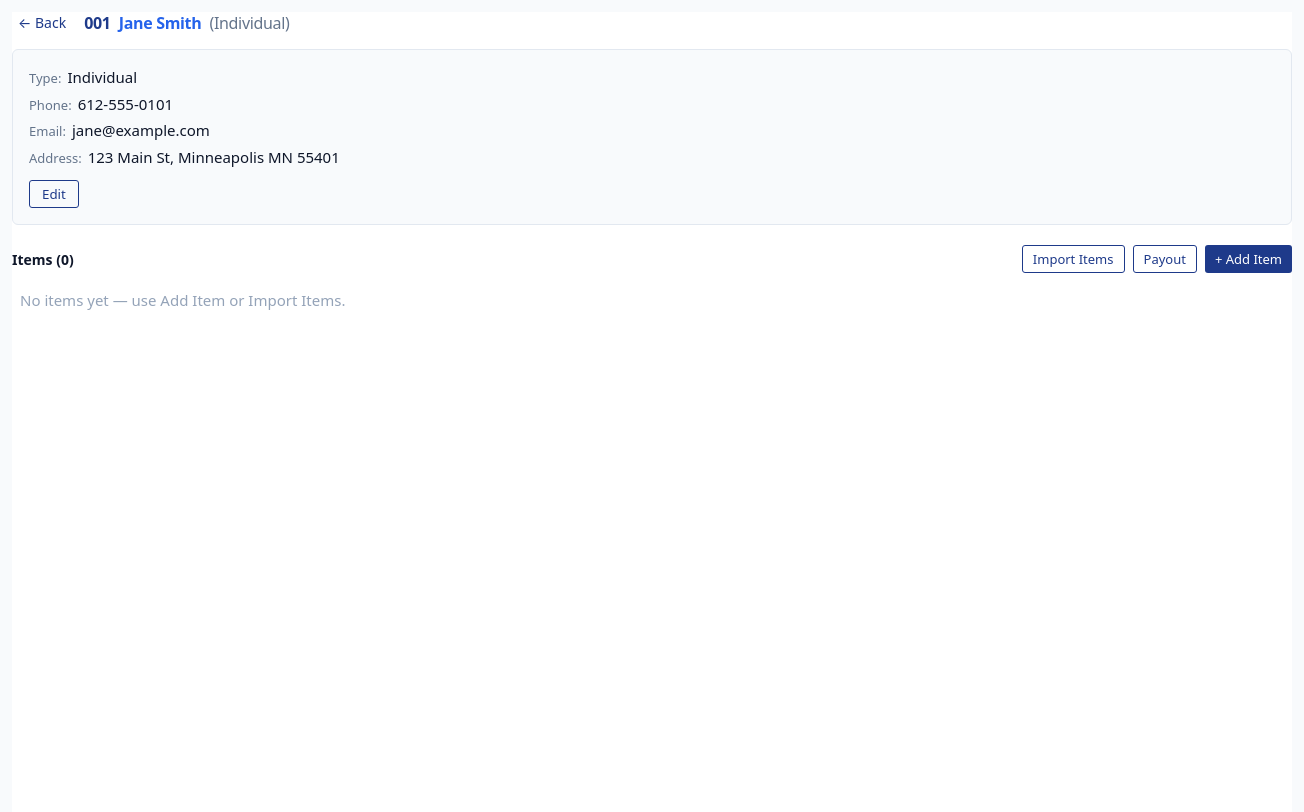
Test: SellerDetailPage › shows payout panel when Payout button is clicked
The image size is (1304, 812).
Click the button "Payout". click: (1165, 259)
box: [1132,245,1197,273]
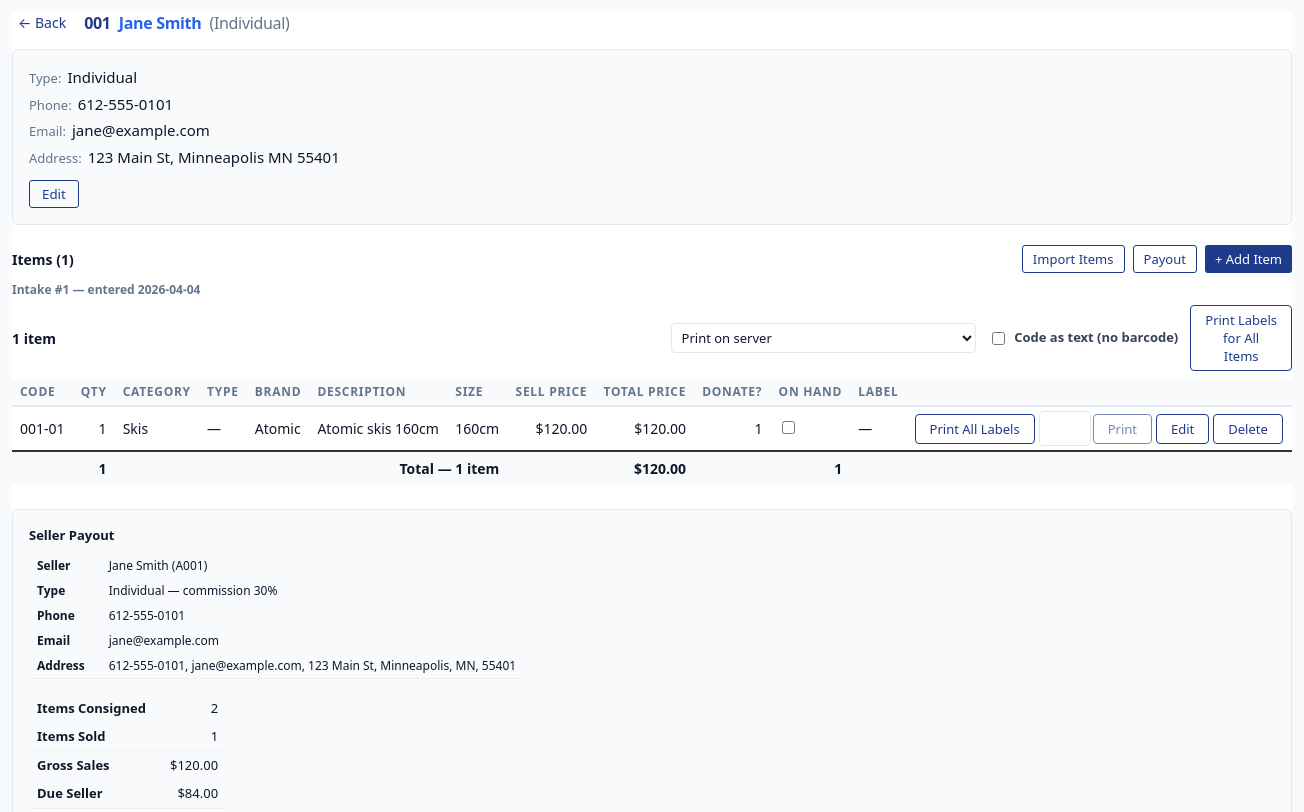
Now the text "$84.00" is shown, box [162,780,226,808]
